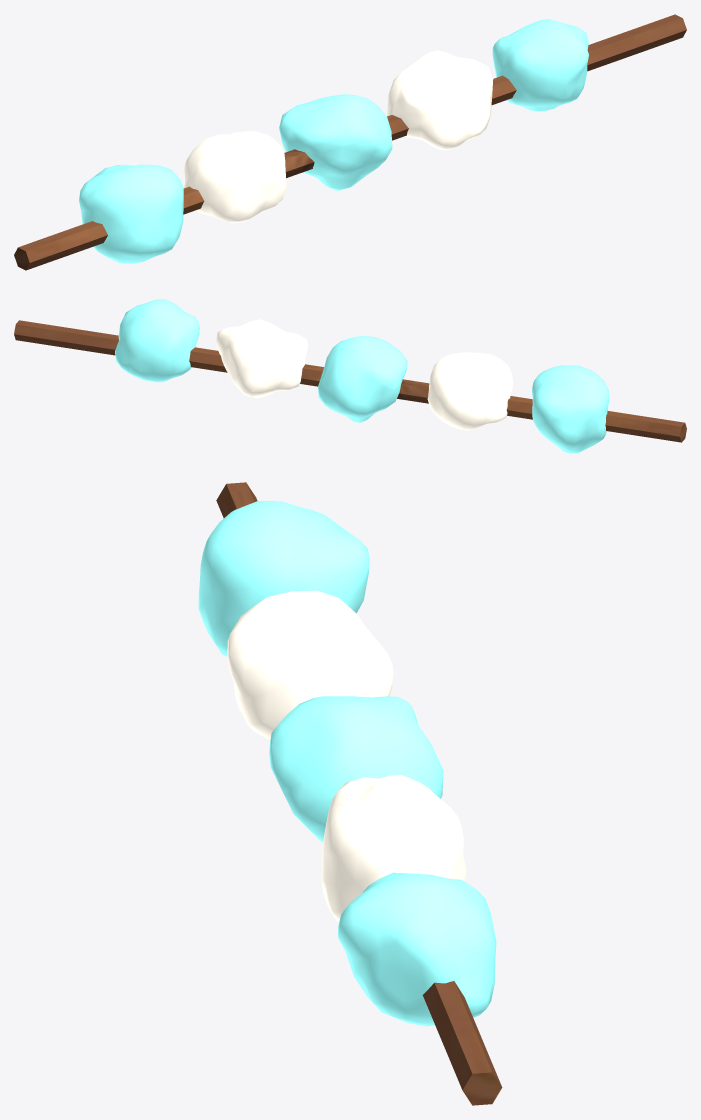
File: dish_glowcap_skewer.glb
The picture shows the model from 3 angles, top to bottom: view 1: azimuth 30°, elevation 25°; view 2: azimuth 150°, elevation 25°; view 3: azimuth 270°, elevation 25°; orthographic projection. The views are drawn at different scales.
Parts seen in each view (by area): view 1: model; view 2: model; view 3: model.
Part boxes in pixels (x1=…): model: x1=14, y1=14, x2=686, y2=270; model: x1=14, y1=299, x2=686, y2=453; model: x1=198, y1=482, x2=502, y2=1105.
Size of the model in its own units: 0.4157 by 0.0565 by 0.09.
3 materials, 1 textured.
